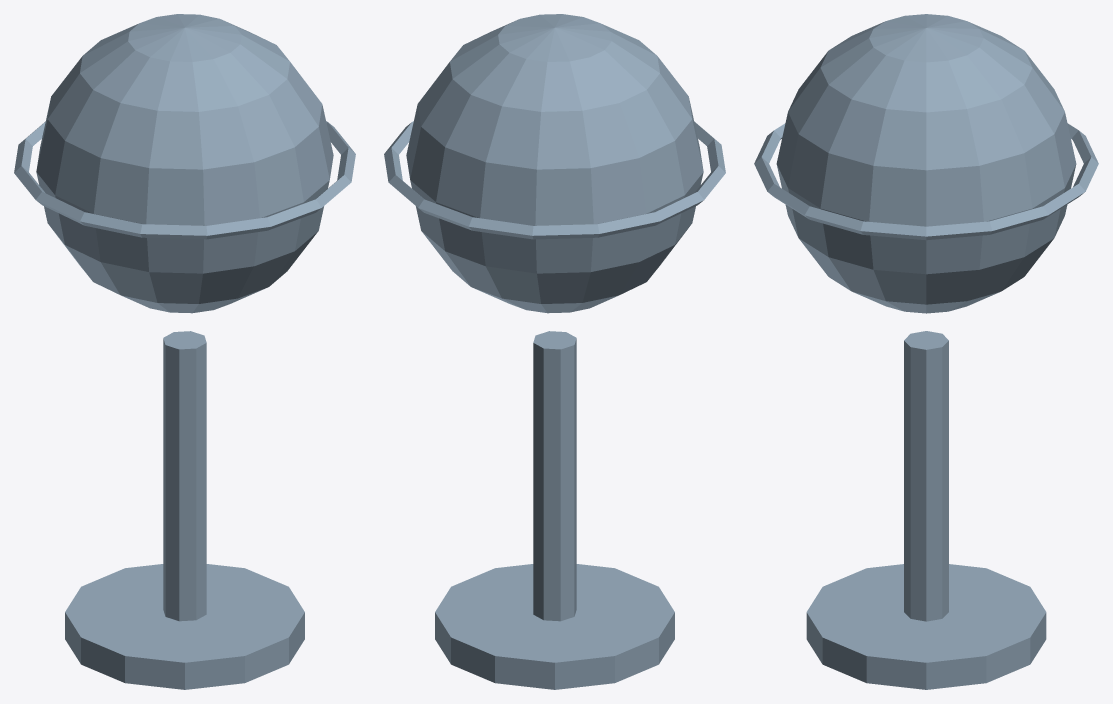
Rendered from globe.glb.
The picture shows the model from 3 angles, left to right: view 1: azimuth 30°, elevation 25°; view 2: azimuth 150°, elevation 25°; view 3: azimuth 270°, elevation 25°; orthographic projection.
Visible parts, largest first — view 1: globe; view 2: globe; view 3: globe.
Boxes of the visible parts, bbox=[...] form: globe: bbox=[14, 14, 355, 689]; globe: bbox=[384, 14, 725, 689]; globe: bbox=[754, 14, 1098, 689].
Bounding box in the file's own units: 0.23 × 0.45 × 0.23.
